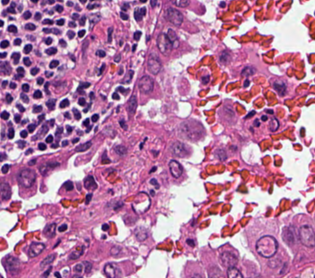nucleus: (177, 119, 204, 140), (156, 33, 172, 55), (133, 192, 150, 212), (299, 225, 314, 247), (165, 7, 183, 25), (170, 141, 188, 157), (147, 53, 160, 74), (138, 75, 153, 93), (220, 106, 235, 122), (32, 124, 48, 139), (39, 162, 59, 174), (282, 227, 295, 245), (166, 28, 178, 47), (169, 160, 182, 177), (273, 79, 286, 95), (127, 95, 137, 115), (219, 50, 231, 64), (84, 175, 96, 189), (43, 223, 55, 237), (75, 141, 91, 151), (121, 70, 133, 83), (135, 227, 147, 240), (89, 14, 99, 28), (241, 66, 255, 76), (269, 117, 279, 131), (215, 148, 226, 160), (114, 145, 126, 155), (172, 0, 189, 7), (134, 8, 142, 20), (46, 99, 55, 109), (72, 108, 80, 119), (102, 152, 110, 163), (113, 201, 122, 210), (45, 47, 56, 54), (78, 82, 89, 89), (107, 27, 112, 42), (133, 31, 141, 40), (49, 60, 58, 68), (201, 75, 209, 84), (59, 99, 68, 107), (150, 178, 158, 187), (64, 181, 72, 190), (98, 64, 105, 74), (245, 111, 255, 118), (119, 119, 126, 129), (30, 67, 38, 75), (33, 90, 41, 98), (96, 50, 105, 57), (85, 193, 91, 203), (121, 3, 128, 11), (120, 12, 128, 19), (78, 29, 85, 37), (78, 97, 85, 105), (33, 105, 41, 112), (58, 224, 66, 231), (186, 239, 194, 246), (87, 3, 96, 9), (79, 16, 85, 25), (55, 5, 62, 12), (34, 12, 41, 19), (67, 31, 74, 38), (45, 37, 52, 44), (59, 39, 66, 46), (112, 92, 119, 99), (91, 114, 98, 121), (45, 135, 52, 142), (56, 19, 64, 25), (52, 28, 60, 34), (114, 54, 120, 62), (56, 127, 62, 135), (38, 143, 46, 149), (140, 7, 145, 16), (43, 19, 52, 24), (117, 87, 126, 92), (44, 82, 48, 93), (150, 1, 157, 7), (71, 13, 78, 19), (37, 77, 43, 84), (243, 79, 249, 86), (38, 114, 44, 121), (253, 119, 259, 126), (102, 223, 108, 230), (219, 1, 225, 7), (69, 21, 75, 27), (45, 71, 52, 76), (43, 28, 51, 32), (261, 115, 267, 120), (83, 119, 88, 125), (86, 125, 91, 131), (66, 126, 71, 132), (62, 140, 67, 146), (132, 44, 136, 51), (265, 109, 272, 113), (51, 143, 58, 147), (83, 107, 88, 112), (64, 112, 69, 117), (150, 167, 155, 172), (118, 68, 122, 74), (72, 138, 78, 142), (50, 119, 53, 126), (67, 1, 72, 5), (48, 0, 54, 3), (90, 92, 93, 98), (75, 6, 79, 10), (151, 190, 154, 195), (71, 56, 74, 60)
